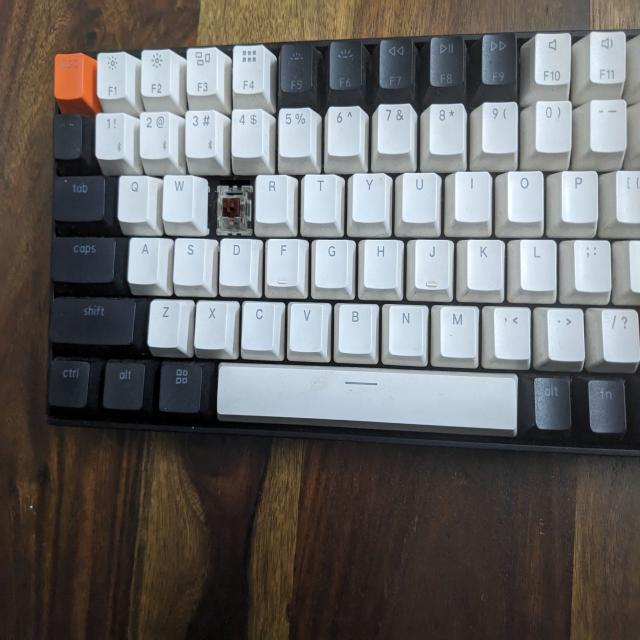C: (220, 180, 250, 231)
